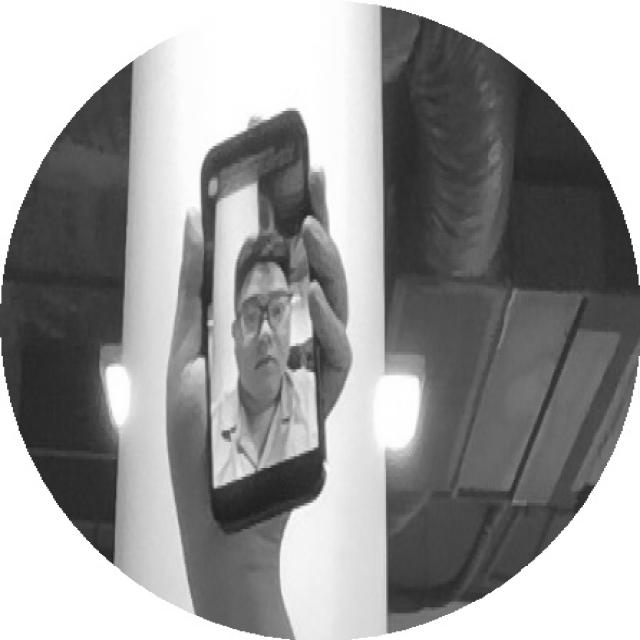fake: (161, 102, 397, 547), (196, 99, 349, 530)
